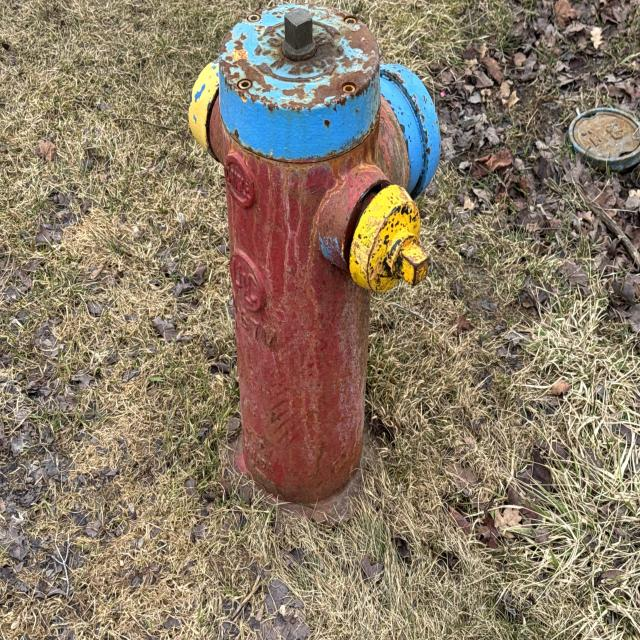Fire hydrant: (185, 3, 443, 531)
